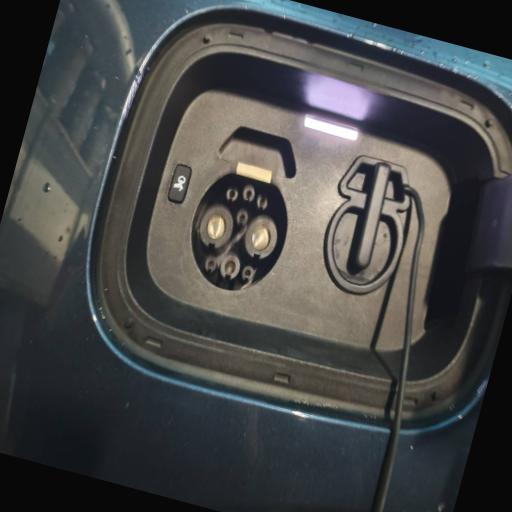DC_charging_port: (173, 162, 300, 304)
DC_hole: (192, 200, 237, 254), (238, 212, 282, 265)
PE: (216, 253, 243, 282)
